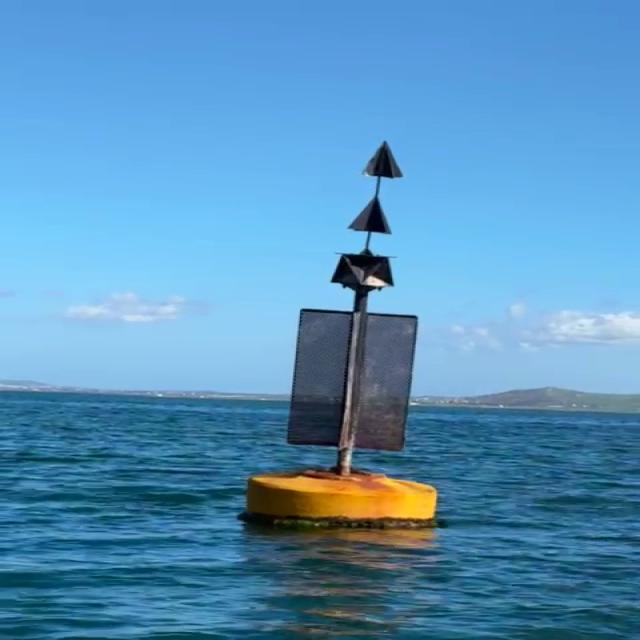marque: (243, 137, 435, 528)
